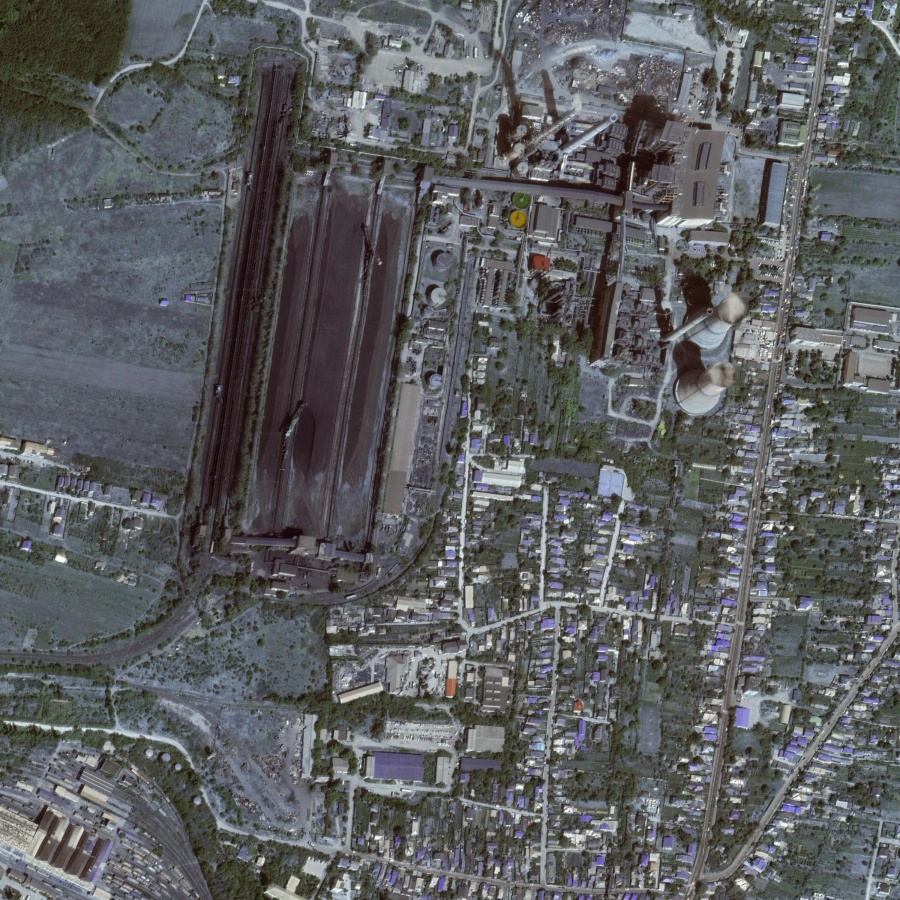PowerPlant: (202, 36, 756, 584)
